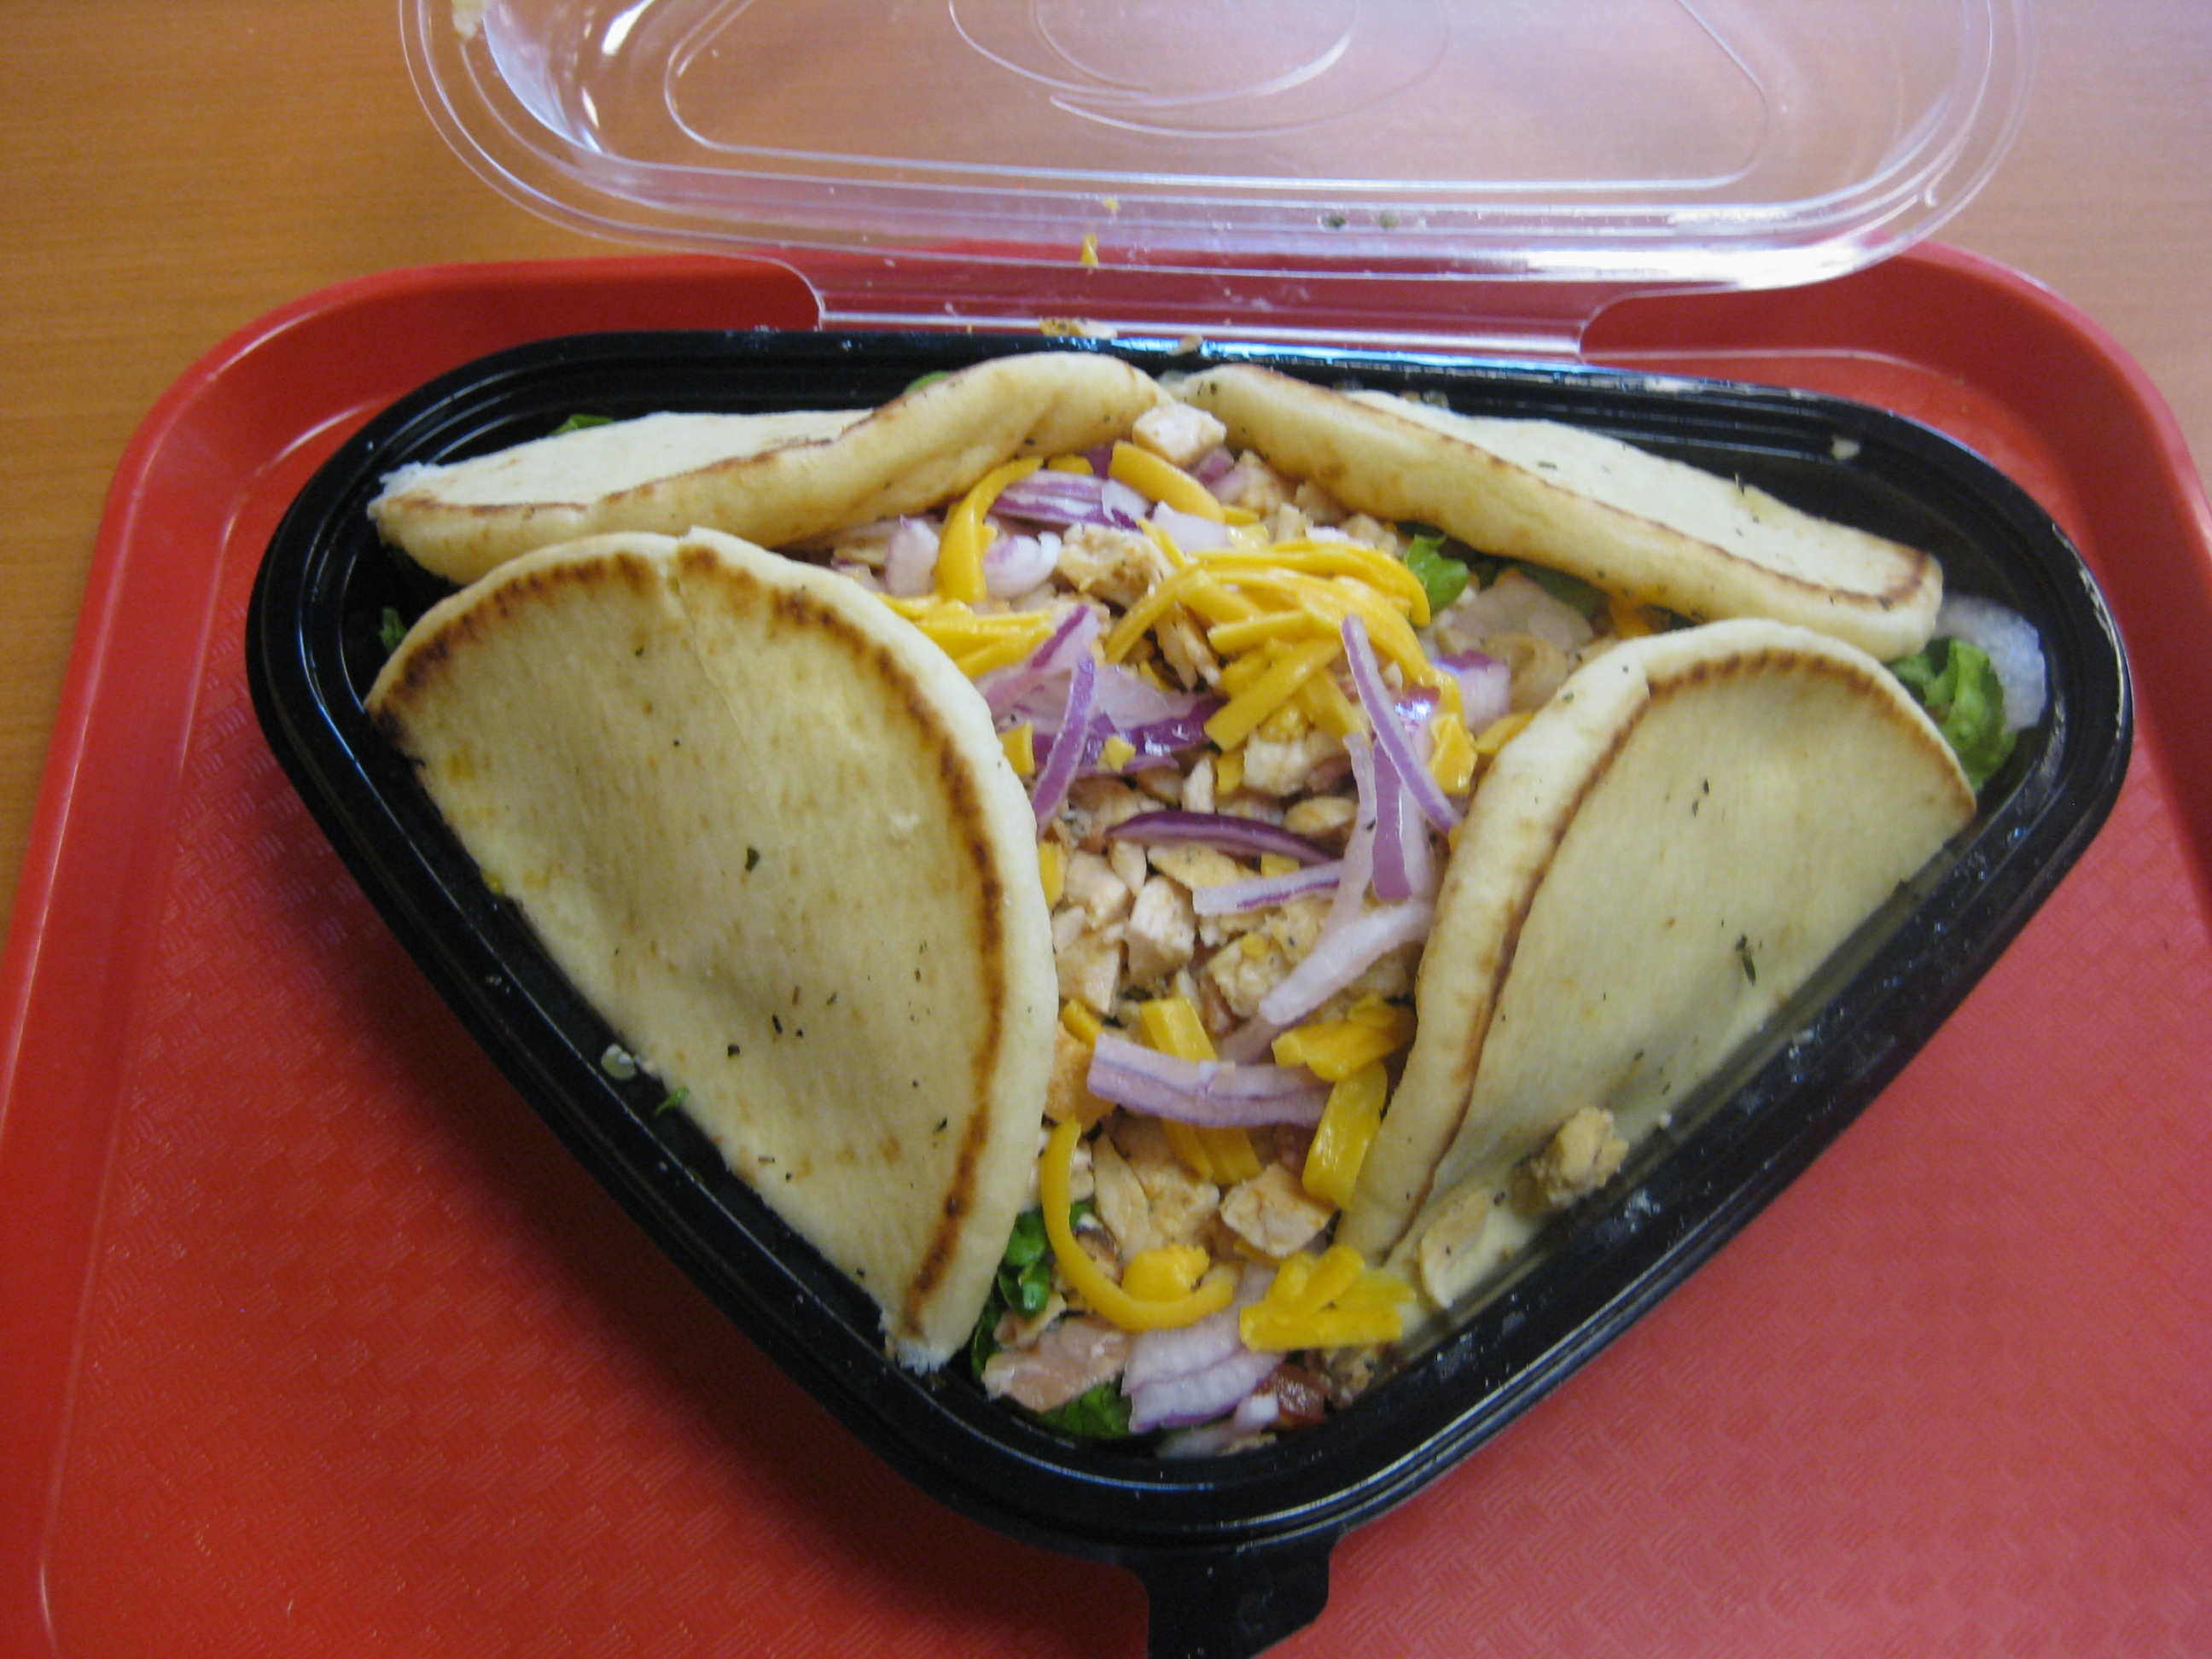burrito: (283, 255, 2116, 1384)
